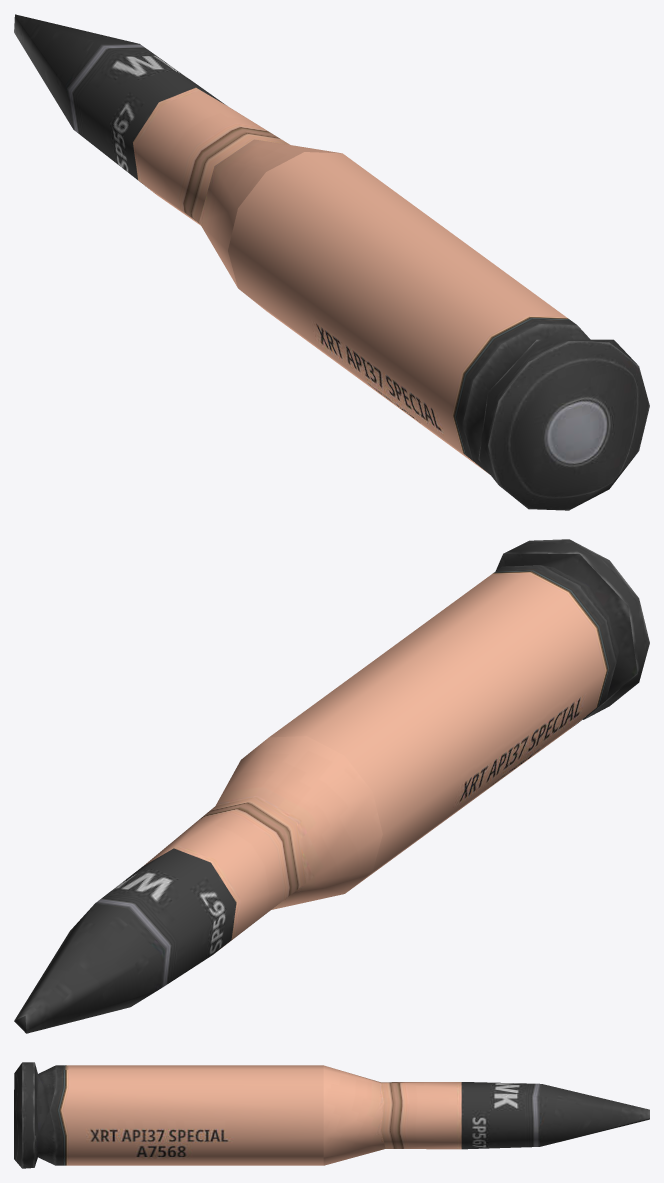
Rendered from bullet.glb.
The picture shows the model from 3 angles, top to bottom: view 1: azimuth 30°, elevation 25°; view 2: azimuth 150°, elevation 25°; view 3: azimuth 270°, elevation 25°; orthographic projection. The views are drawn at different scales.
Visible parts, largest first — view 1: Cartridge_03; view 2: Cartridge_03; view 3: Cartridge_03.
Part boxes in pixels (x1=…): Cartridge_03: x1=14, y1=14, x2=649, y2=510; Cartridge_03: x1=14, y1=539, x2=649, y2=1033; Cartridge_03: x1=14, y1=1062, x2=649, y2=1168.
Bounding box in the file's own units: 0.0127 × 0.0127 × 0.0758.
1 material, 1 textured.
